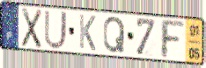7: (135, 16, 158, 57)
F: (158, 18, 186, 61)
K: (78, 13, 97, 53)
Q: (103, 16, 127, 55)
U: (43, 9, 69, 52)
X: (21, 6, 44, 50)
